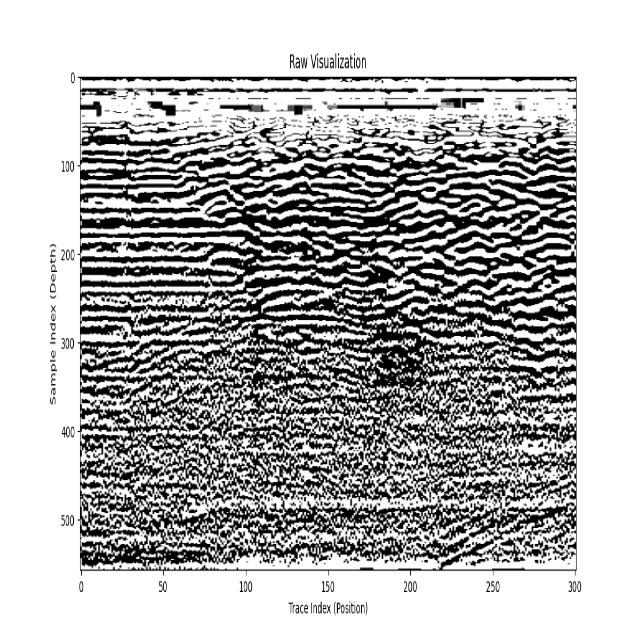anomaly: (423, 461, 575, 570)
